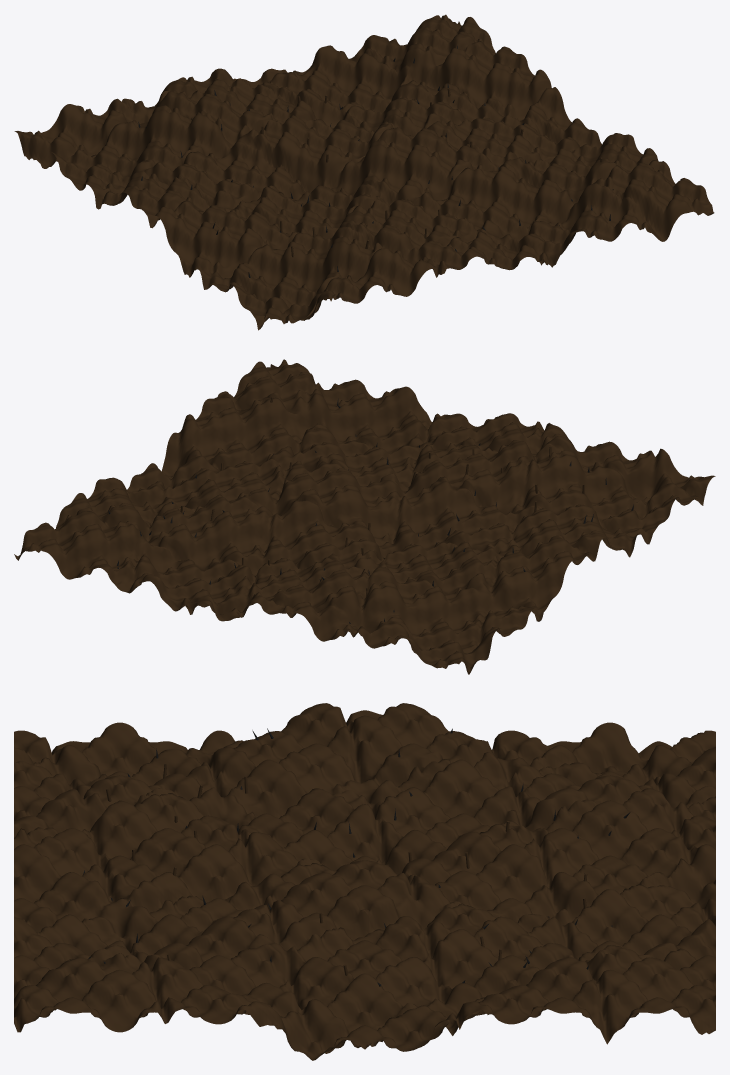
The model's file is volcanic-highland.glb.
3 renders of one model, top to bottom at view 1: azimuth 30°, elevation 25°; view 2: azimuth 150°, elevation 25°; view 3: azimuth 270°, elevation 25°, orthographic. The views are drawn at different scales.
Visible parts, largest first — view 1: Terrain; view 2: Terrain; view 3: Terrain.
Boxes of the visible parts, x1,y1,x2,y2 form: Terrain: (14, 14, 714, 330); Terrain: (14, 359, 715, 674); Terrain: (14, 703, 715, 1060).
Size of the model in its own units: 1000 by 117 by 1000.
